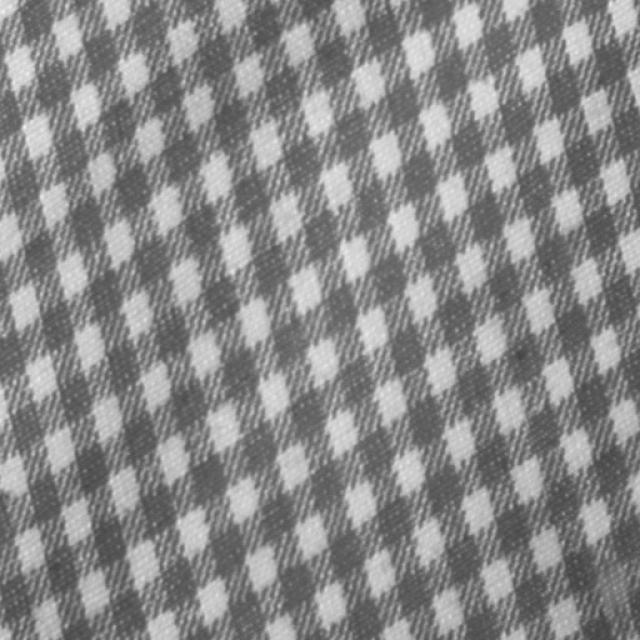Stain-Defect: (596, 564, 630, 611)
